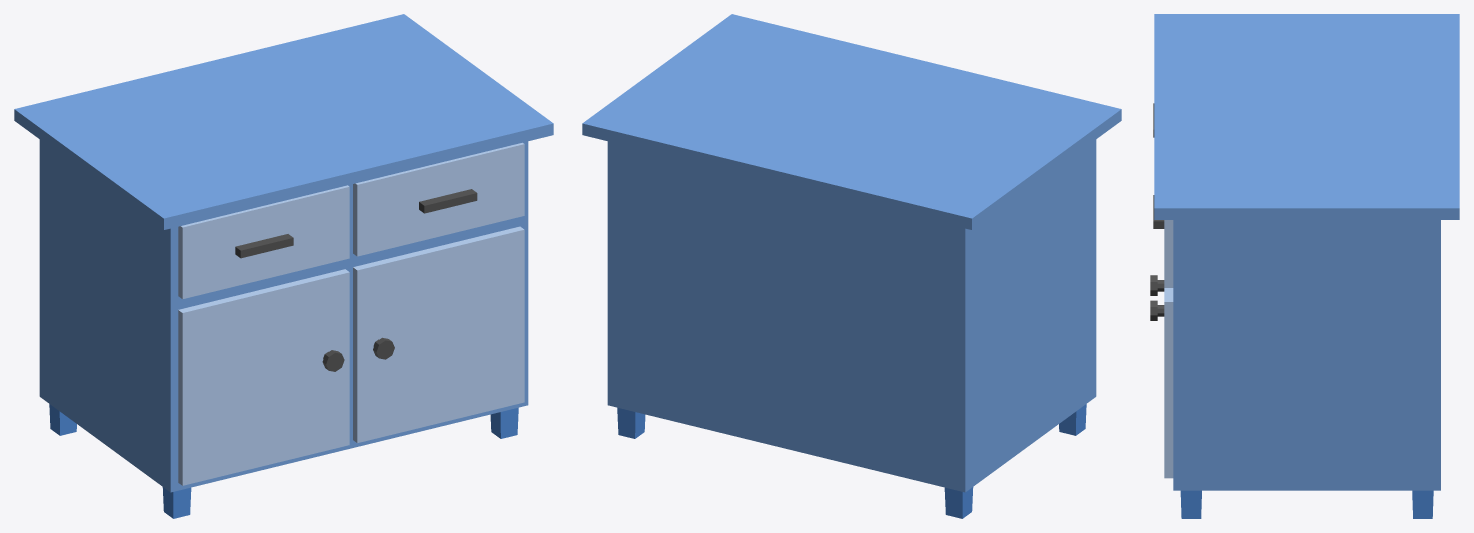
File: Cabinet_3c.fbx
3 renders of one model, left to right at view 1: azimuth 30°, elevation 25°; view 2: azimuth 150°, elevation 25°; view 3: azimuth 270°, elevation 25°, orthographic. The views are drawn at different scales.
Parts seen in each view (by area): view 1: Cabinet_3c; view 2: Cabinet_3c; view 3: Cabinet_3c.
Boxes of the visible parts, <box> form: Cabinet_3c: <box>14,14,553,518</box>; Cabinet_3c: <box>582,14,1121,518</box>; Cabinet_3c: <box>1150,14,1459,518</box>.
Bounding box in the file's own units: 1.05 × 0.8148 × 0.7095.
